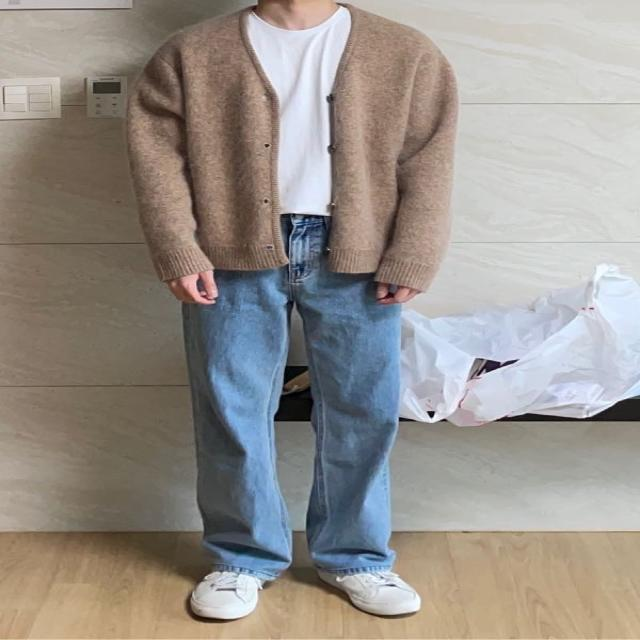cardigan: (130, 0, 458, 292)
denimpants: (177, 207, 405, 577)
